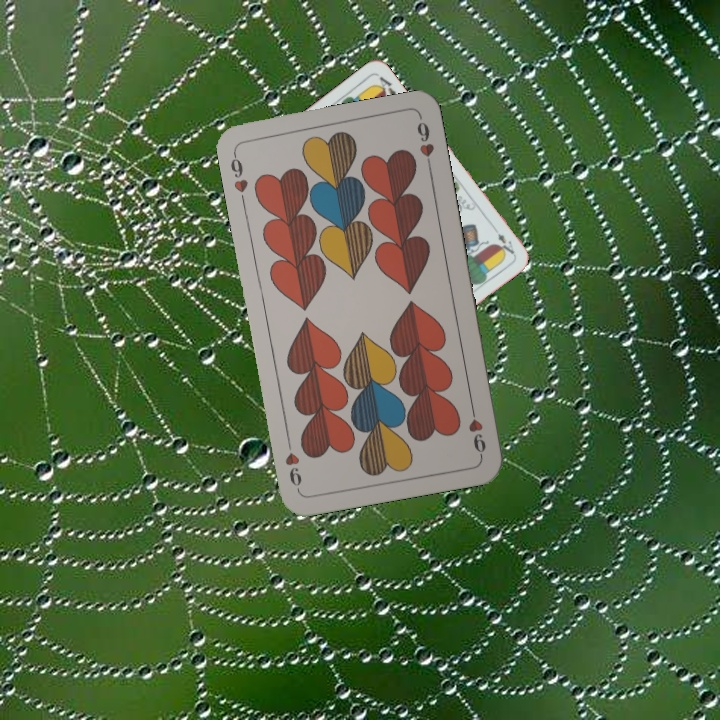EA: (488, 222, 517, 257)
H9: (464, 400, 489, 459), (226, 148, 251, 195)
